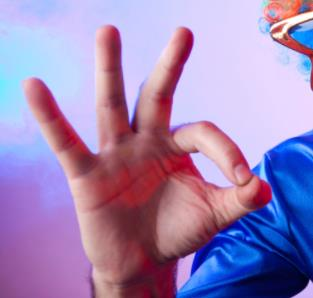left: (19, 20, 275, 273)
